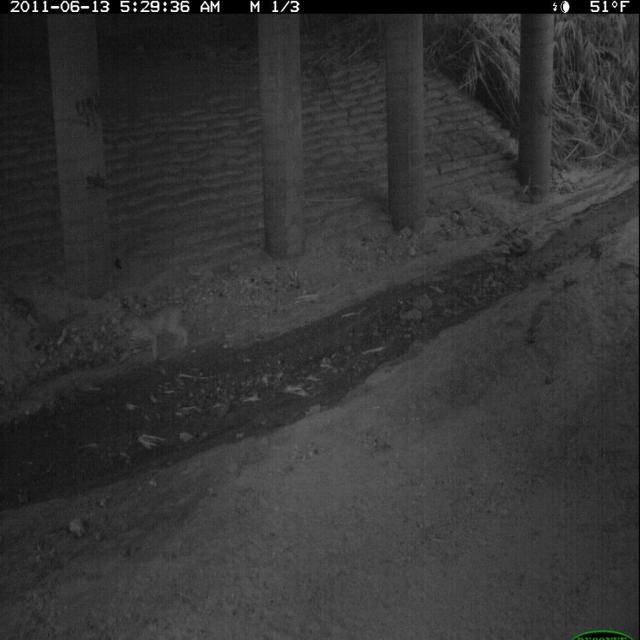bobcat: (114, 298, 193, 371)
